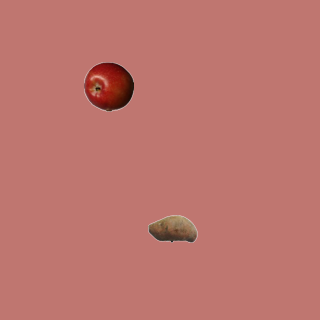Apple Braeburn: (83, 61, 133, 111)
Potato Sweet: (147, 203, 197, 253)
